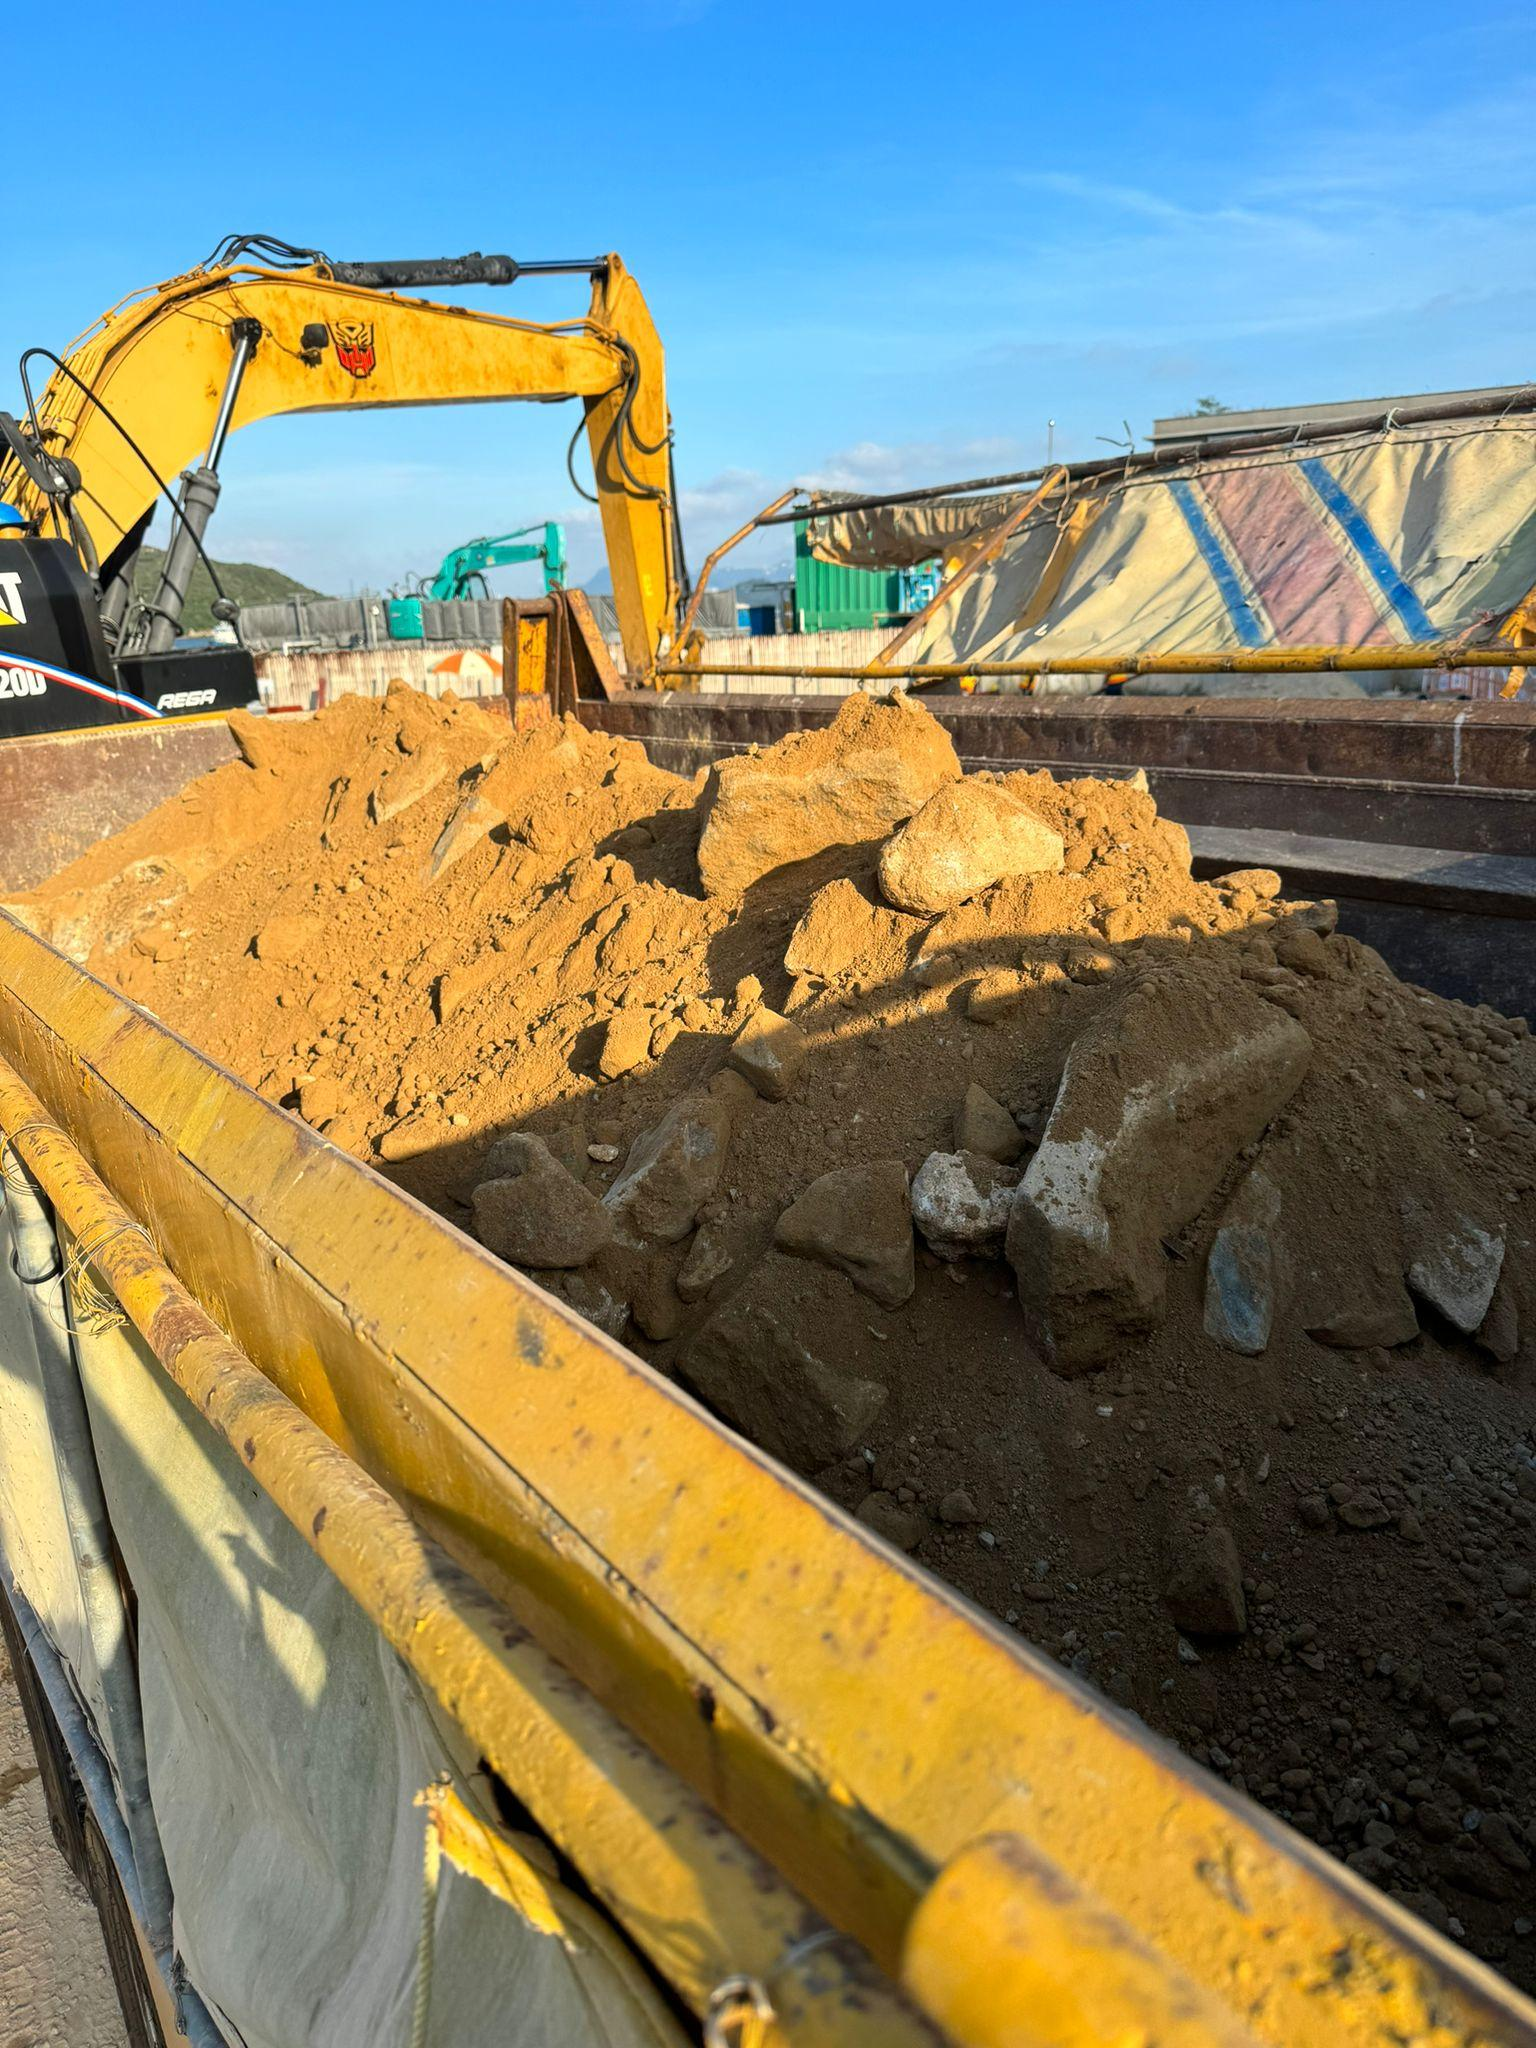dry: (19, 684, 1536, 1996)
